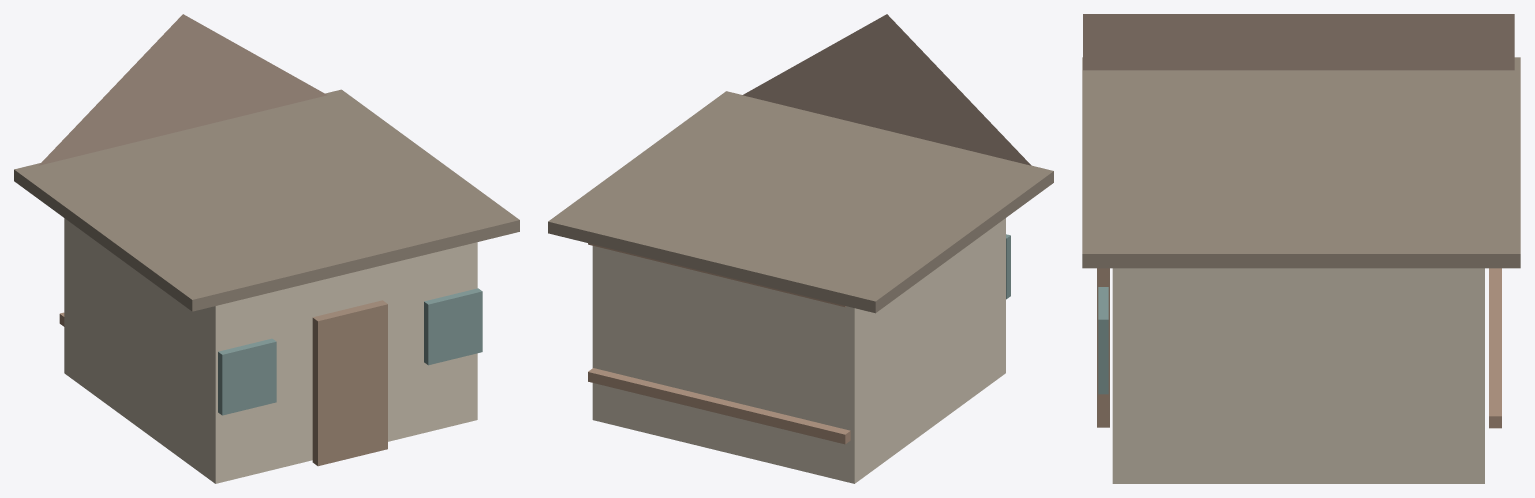
File: timber_house_1000_3.glb
3 renders of one model, left to right at view 1: azimuth 30°, elevation 25°; view 2: azimuth 150°, elevation 25°; view 3: azimuth 270°, elevation 25°, orthographic. The views are drawn at different scales.
Parts seen in each view (by area): view 1: timber_house_1000_3_11, timber_house_1000_3_0, timber_house_1000_3_1, timber_house_1000_3_8, timber_house_1000_3_6, timber_house_1000_3_7; view 2: timber_house_1000_3_0, timber_house_1000_3_11, timber_house_1000_3_1, timber_house_1000_3_9, timber_house_1000_3_10; view 3: timber_house_1000_3_11, timber_house_1000_3_0, timber_house_1000_3_1, timber_house_1000_3_9, timber_house_1000_3_7, timber_house_1000_3_8.
Boxes of the visible parts, x1=… form: timber_house_1000_3_11: x1=14, y1=89, x2=519, y2=311; timber_house_1000_3_0: x1=64, y1=218, x2=477, y2=483; timber_house_1000_3_1: x1=38, y1=14, x2=327, y2=165; timber_house_1000_3_8: x1=312, y1=300, x2=387, y2=466; timber_house_1000_3_6: x1=218, y1=338, x2=276, y2=415; timber_house_1000_3_7: x1=424, y1=288, x2=482, y2=365; timber_house_1000_3_0: x1=592, y1=218, x2=1005, y2=483; timber_house_1000_3_11: x1=548, y1=91, x2=1053, y2=313; timber_house_1000_3_1: x1=742, y1=14, x2=1031, y2=165; timber_house_1000_3_9: x1=588, y1=368, x2=850, y2=444; timber_house_1000_3_10: x1=588, y1=243, x2=846, y2=307; timber_house_1000_3_11: x1=1082, y1=57, x2=1520, y2=268; timber_house_1000_3_0: x1=1112, y1=268, x2=1484, y2=483; timber_house_1000_3_1: x1=1083, y1=14, x2=1514, y2=70; timber_house_1000_3_9: x1=1489, y1=268, x2=1501, y2=428; timber_house_1000_3_7: x1=1098, y1=287, x2=1108, y2=394; timber_house_1000_3_8: x1=1097, y1=268, x2=1109, y2=427.
Size of the model in its own units: 3.5 by 3.26 by 3.3.
